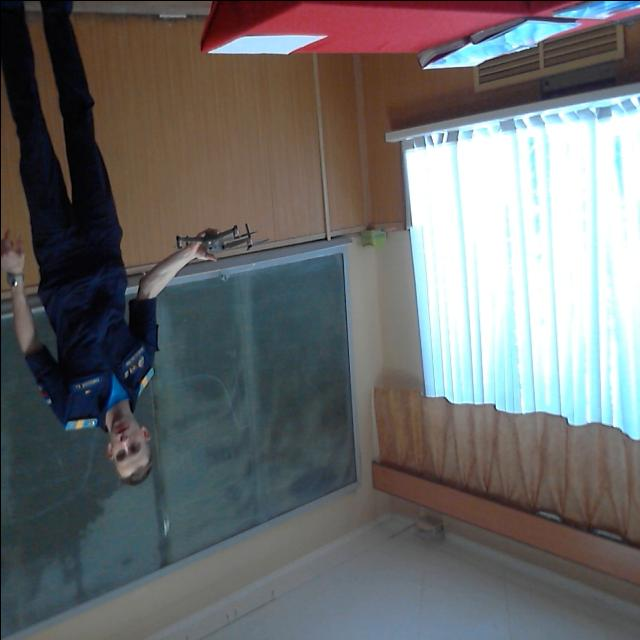drone: (152, 221, 274, 277)
